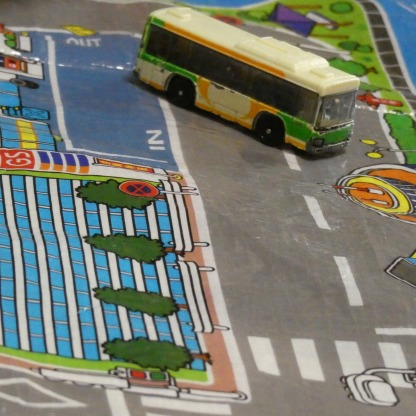car: (135, 7, 354, 159)
